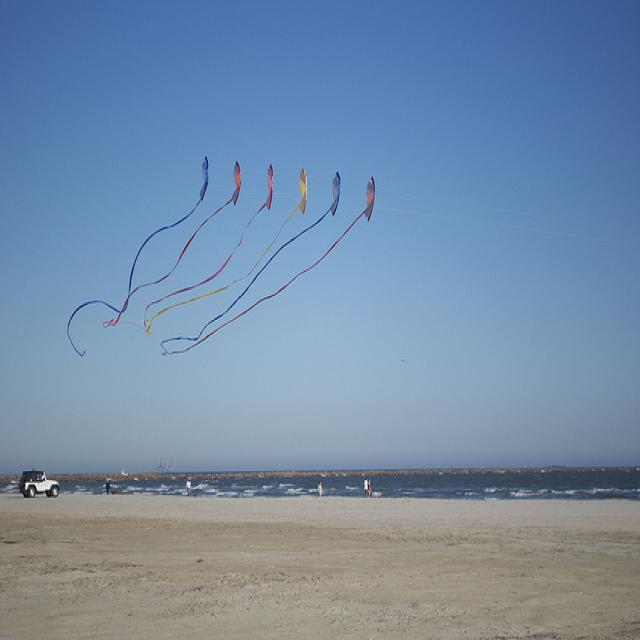Vehicle: (19, 472, 60, 498)
